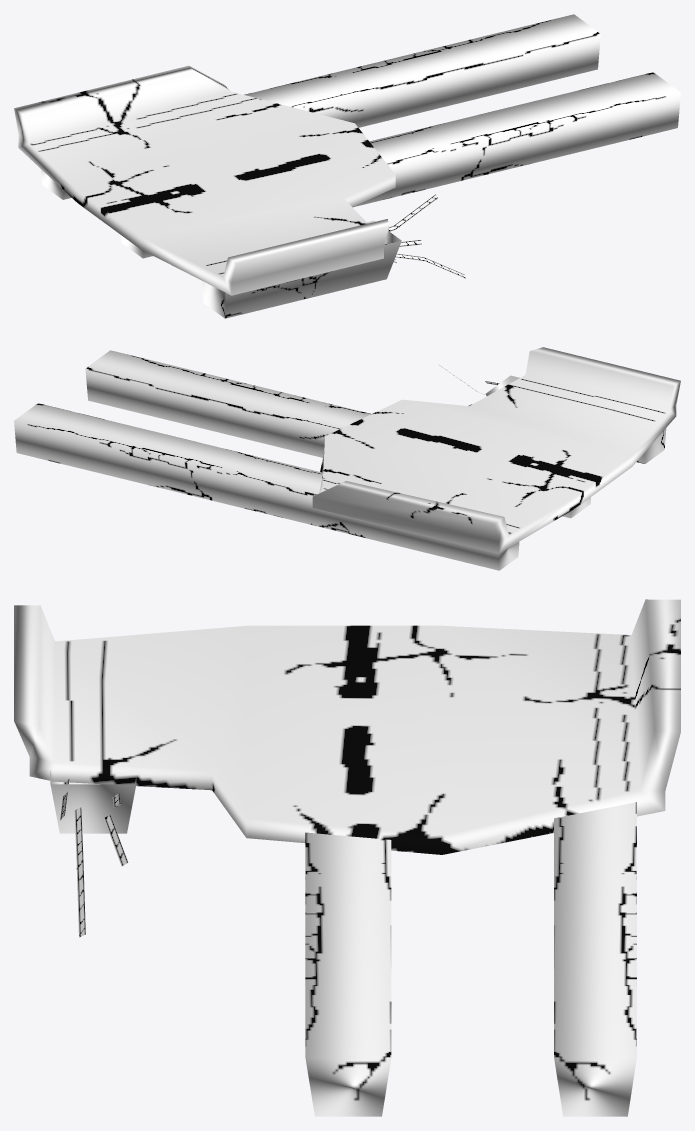
File: Bridge_01_04.fbx
3 views of the same model, one above another, from view 1: azimuth 30°, elevation 25°; view 2: azimuth 150°, elevation 25°; view 3: azimuth 270°, elevation 25° (orthographic). The views are drawn at different scales.
Visible parts, largest first — view 1: Bridge_01_03; view 2: Bridge_01_03; view 3: Bridge_01_03.
Boxes of the visible parts, x1,y1,x2,y2 form: Bridge_01_03: (14, 14, 680, 318); Bridge_01_03: (14, 347, 680, 570); Bridge_01_03: (14, 599, 680, 1116).
Size of the model in its own units: 26.51 by 4.16 by 17.65.
